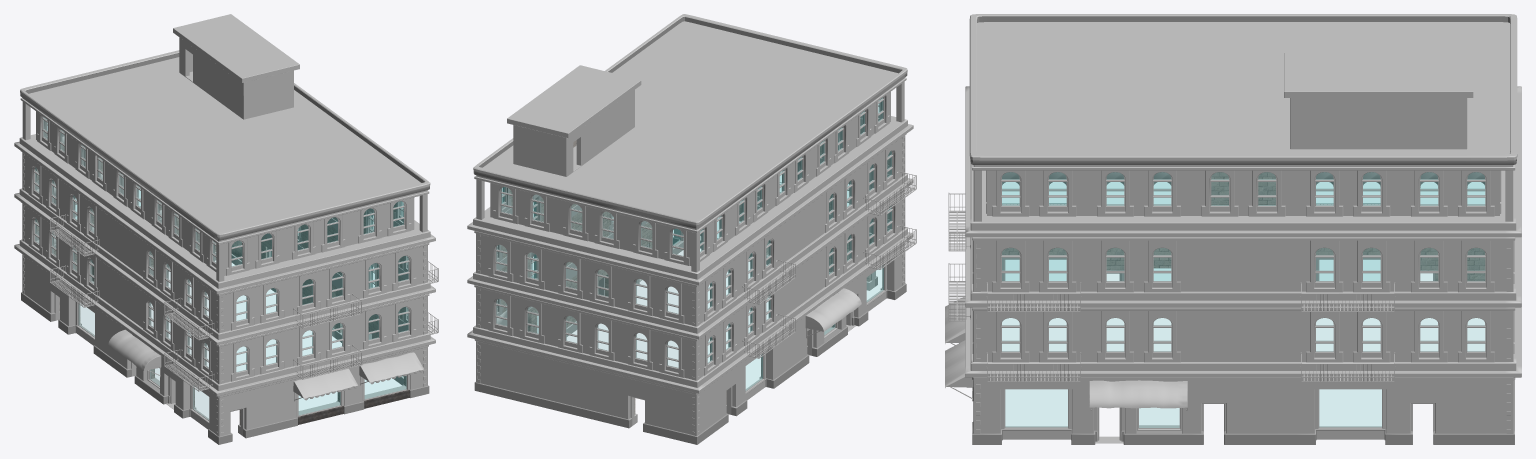
File: SM_Building16_V1.fbx
3 renders of one model, left to right at view 1: azimuth 30°, elevation 25°; view 2: azimuth 150°, elevation 25°; view 3: azimuth 270°, elevation 25°, orthographic. The views are drawn at different scales.
Visible parts, largest first — view 1: SM_Building16_V1; view 2: SM_Building16_V1; view 3: SM_Building16_V1.
Boxes of the visible parts, box(x1,y1,x2,y2) form: SM_Building16_V1: box(14, 14, 438, 444); SM_Building16_V1: box(467, 14, 916, 444); SM_Building16_V1: box(945, 14, 1521, 444).
Size of the model in its own units: 2015 by 1979 by 3019.
